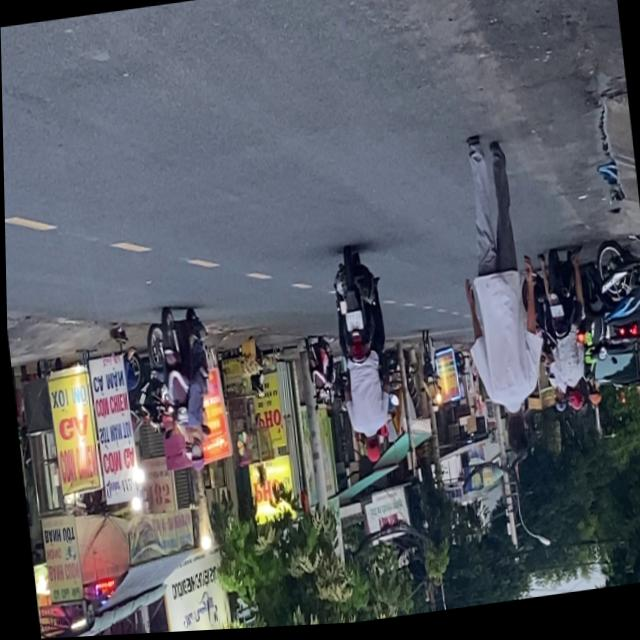helmet: (184, 442, 203, 476), (564, 391, 582, 418)
licenseplate: (323, 248, 400, 473), (151, 302, 220, 479), (536, 252, 594, 423)
motorcyclist: (360, 437, 379, 469)
nohelmet: (343, 315, 361, 335), (548, 309, 562, 324)
